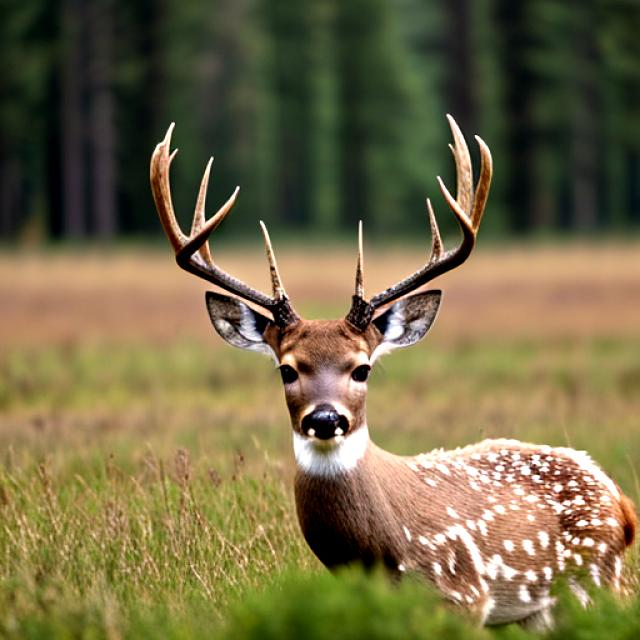deer: (112, 102, 632, 624)
